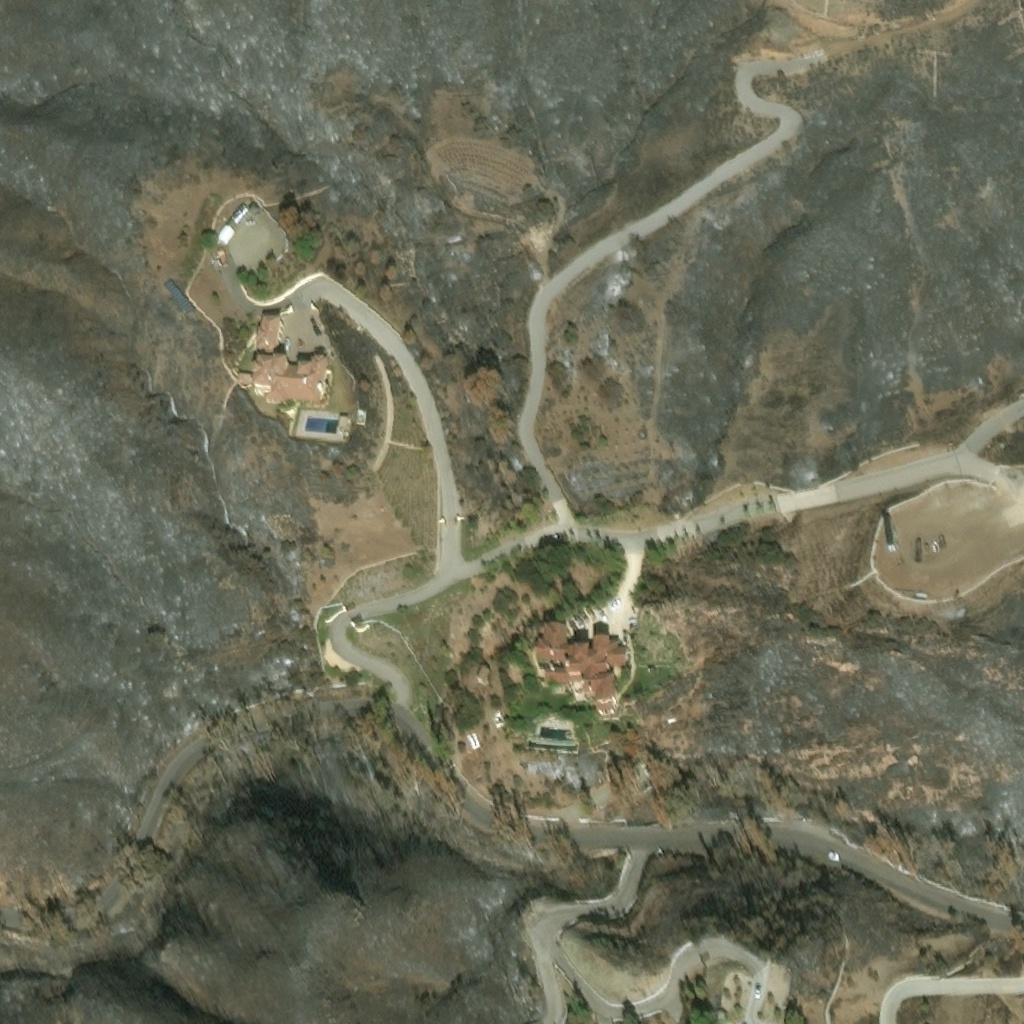0 no-damage: (535, 619, 625, 714), (253, 352, 328, 406), (254, 312, 282, 354), (456, 656, 489, 689), (527, 740, 577, 751), (881, 507, 894, 544), (214, 216, 234, 238), (228, 197, 247, 217), (913, 532, 920, 552)
